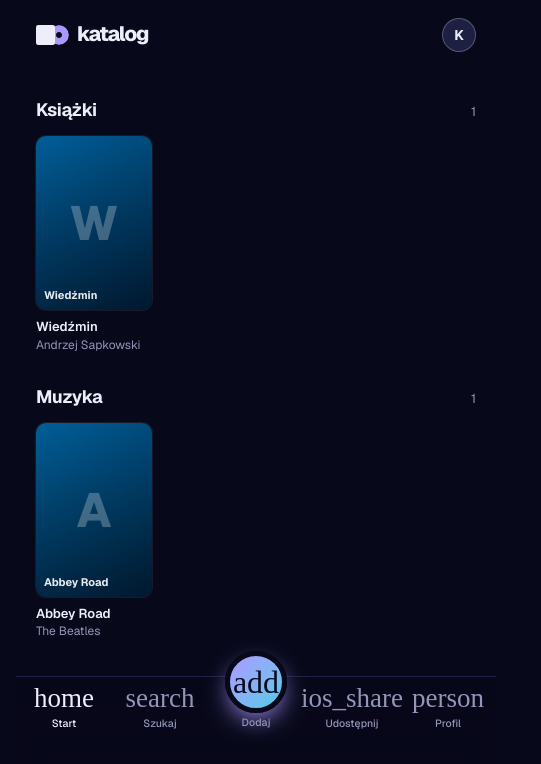
Dashboard › shows an error when saving the display name fails
The width and height of the screenshot is (541, 764).
Expected: the element "Książki" is shown, [16,96,496,356]
What coordinates should you click on to do the following:
click the button "Profil"
I would click on:
 (448, 720)
Its box is [400,685,496,756].
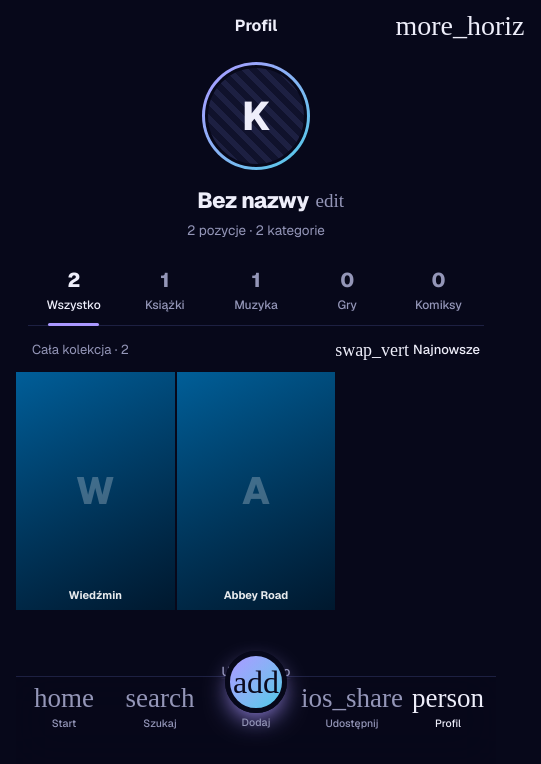
What coordinates should you click on to do the following:
click the button named "Edytuj nazwę"
I would click on:
 (330, 200)
Its box is [315,186,345,216].
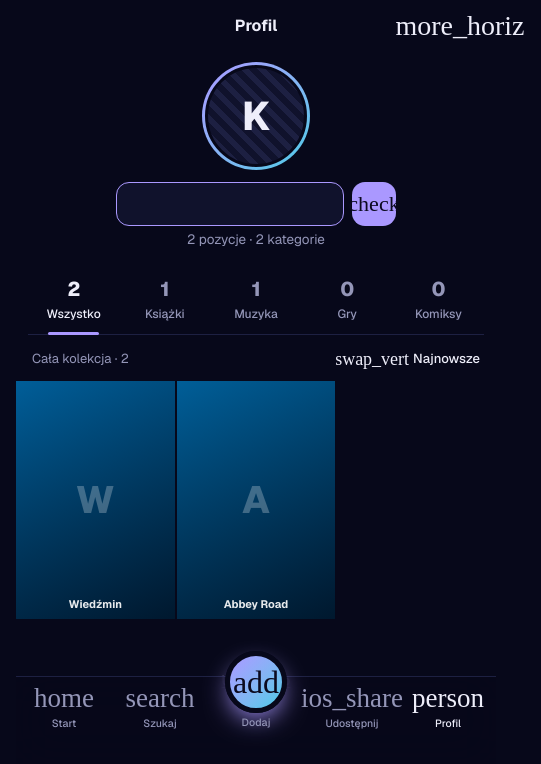
What coordinates should you click on to do the following:
click the button named "Zapisz nazwę"
I would click on:
 (374, 204)
Its box is [352,182,396,226].
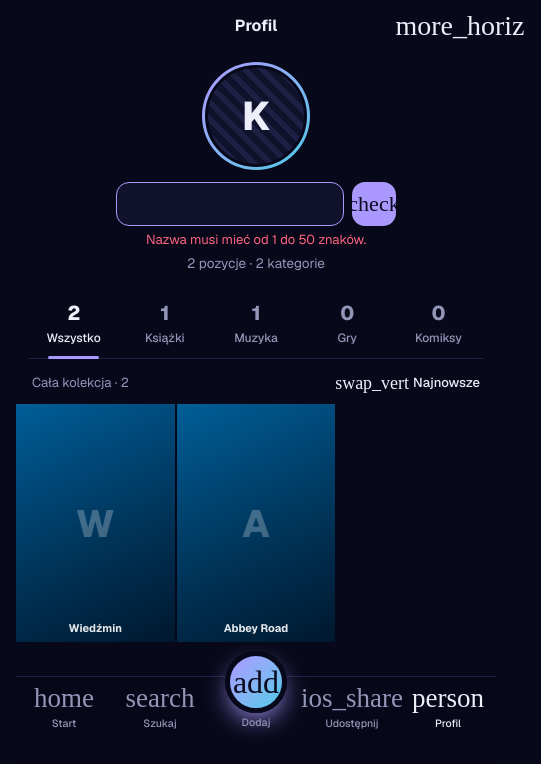
Now the text "Nazwa musi mieć od 1 do 50 znaków." is shown, box [146,230,366,250]
